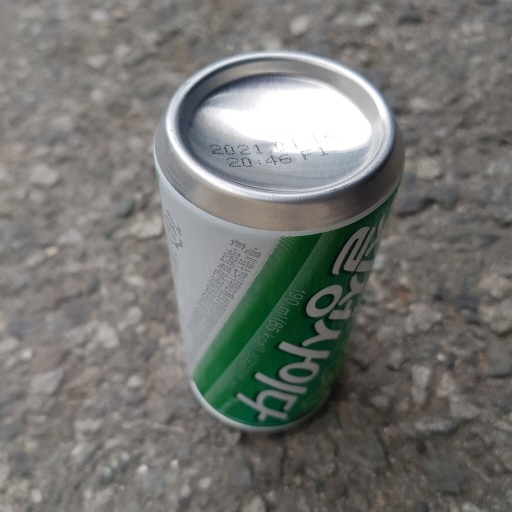Metal_0: (155, 48, 405, 438)
